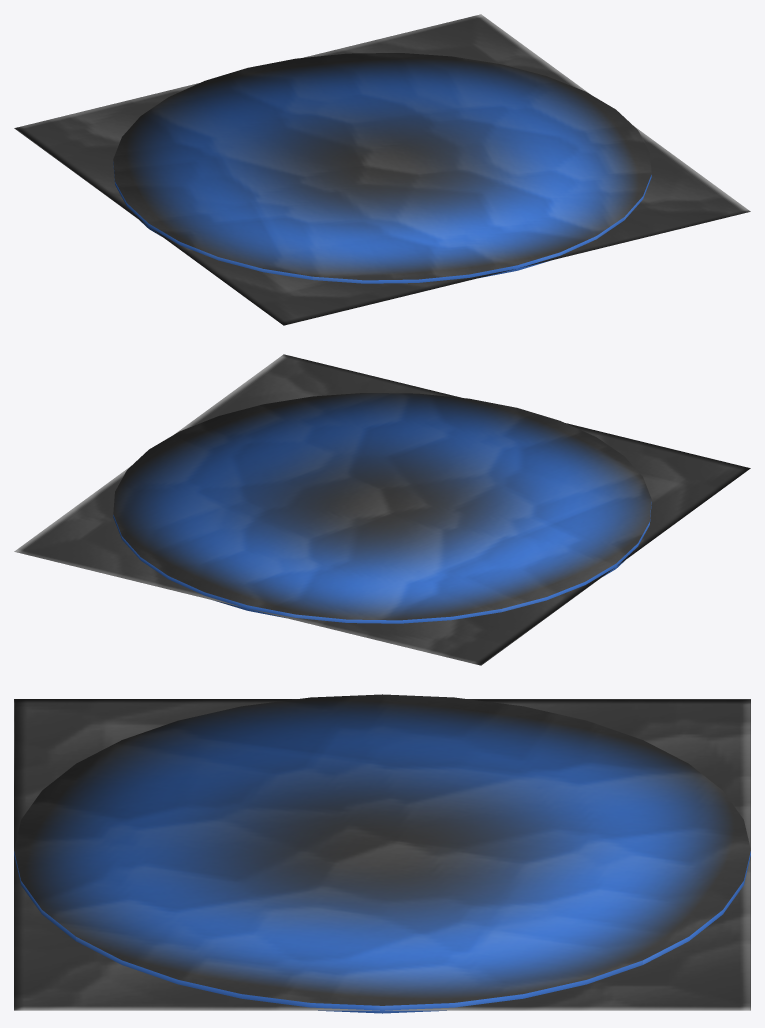
File: baseRobot.fbx
3 views of the same model, one above another, from view 1: azimuth 30°, elevation 25°; view 2: azimuth 150°, elevation 25°; view 3: azimuth 270°, elevation 25° (orthographic). The views are drawn at different scales.
Visible parts, largest first — view 1: Plane; view 2: Plane; view 3: Plane.
Boxes of the visible parts, x1,y1,x2,y2 form: Plane: (14,14,750,325); Plane: (14,354,750,665); Plane: (14,694,750,1013).
Size of the model in its own units: 2 by 0.0226 by 2.
Materials: 1 (1 with a texture image).
